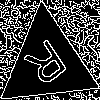R: (22, 37, 75, 97)
